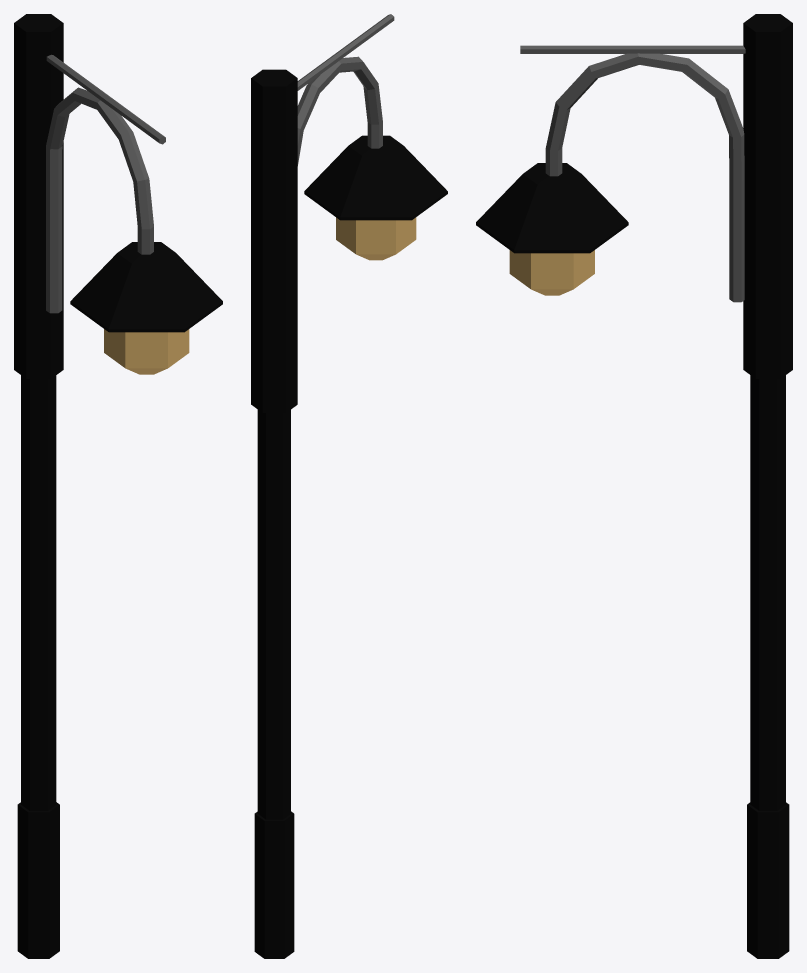
File: P_GARDEN LAMP 3.fbx
The picture shows the model from 3 angles, left to right: view 1: azimuth 30°, elevation 25°; view 2: azimuth 150°, elevation 25°; view 3: azimuth 270°, elevation 25°; orthographic projection. The views are drawn at different scales.
Visible parts, largest first — view 1: G_Lamp_01; view 2: G_Lamp_01; view 3: G_Lamp_01.
Part boxes in pixels (<box>): G_Lamp_01: <box>14,14,222,958</box>; G_Lamp_01: <box>251,14,447,958</box>; G_Lamp_01: <box>476,14,792,958</box>.
Bounding box in the file's own units: 57.96 × 449 × 139.
